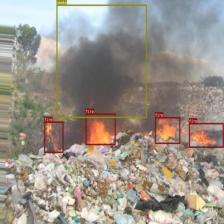fire: (86, 113, 116, 145), (188, 122, 224, 148), (155, 117, 180, 144), (44, 121, 63, 153)
smoke: (56, 4, 147, 118)
